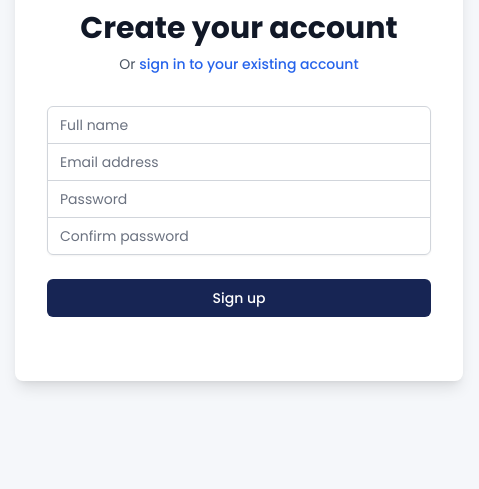
Scenario: Register Component › shows error message when registration fails
Type "John Doe" into the field with placeholder "Full name" at x=239, y=125, box x1=47 y1=106 x2=431 y2=144
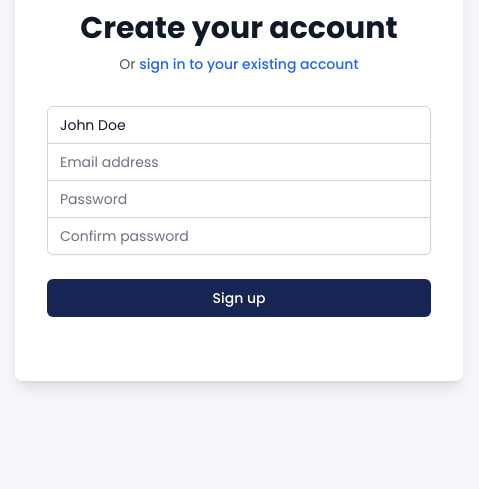
Type "john@example.com" into the field with placeholder "Email address" at x=239, y=162, box x1=47 y1=143 x2=431 y2=181
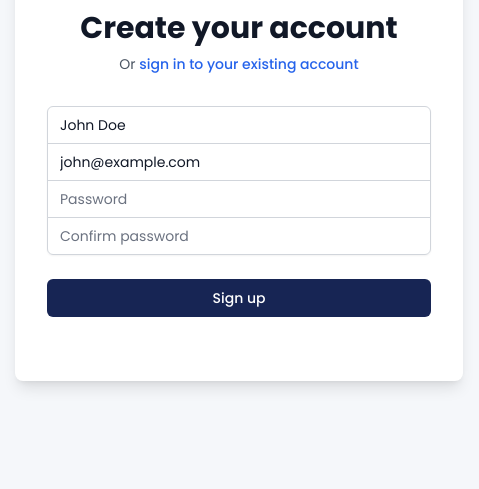
Type "password123" into the password field with placeholder "Password" at x=239, y=199, box x1=47 y1=180 x2=431 y2=218
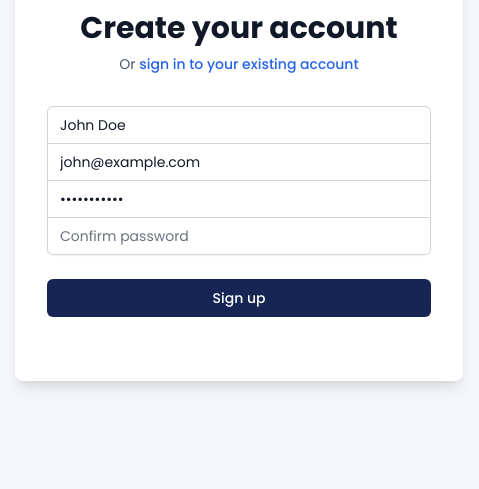
Type "password123" into the password field with placeholder "Confirm password" at x=239, y=236, box x1=47 y1=217 x2=431 y2=255
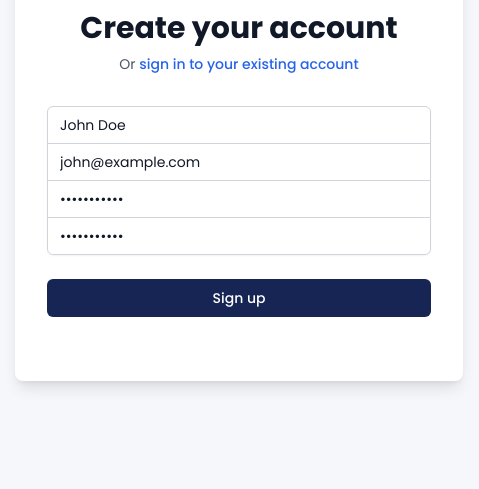
Click the button "Sign up" at x=239, y=298, box x1=47 y1=279 x2=431 y2=317
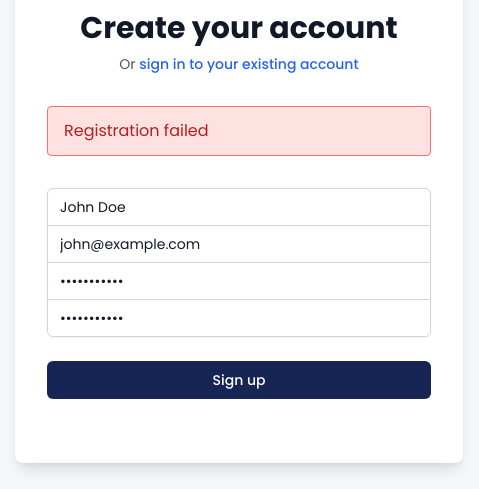
Expected: the text "Registration failed" is shown, x1=64 y1=119 x2=209 y2=142
